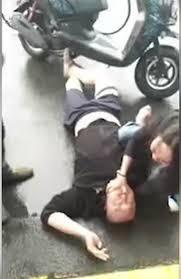Fall-Detected: (39, 36, 135, 266)
